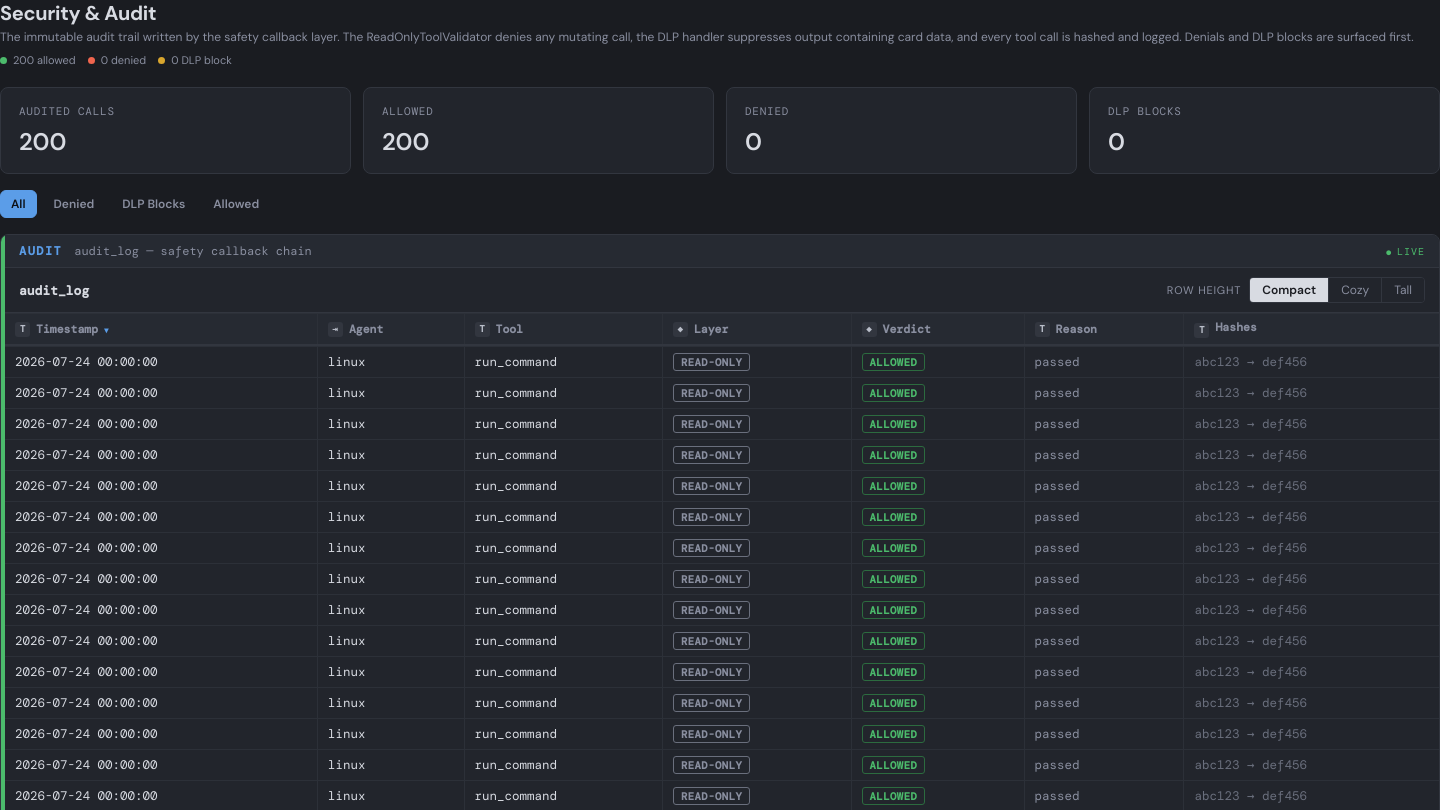
Scenario: Security page — Phase 3 design-system rebuild › shows a filter-zero empty state (not a false 'no data' message) when a filter matches nothing
Expected: the text "Audited Calls" is shown, [19,104,115,118]
Click the button "Denied".
click(74, 204)  # box [42,190,105,218]
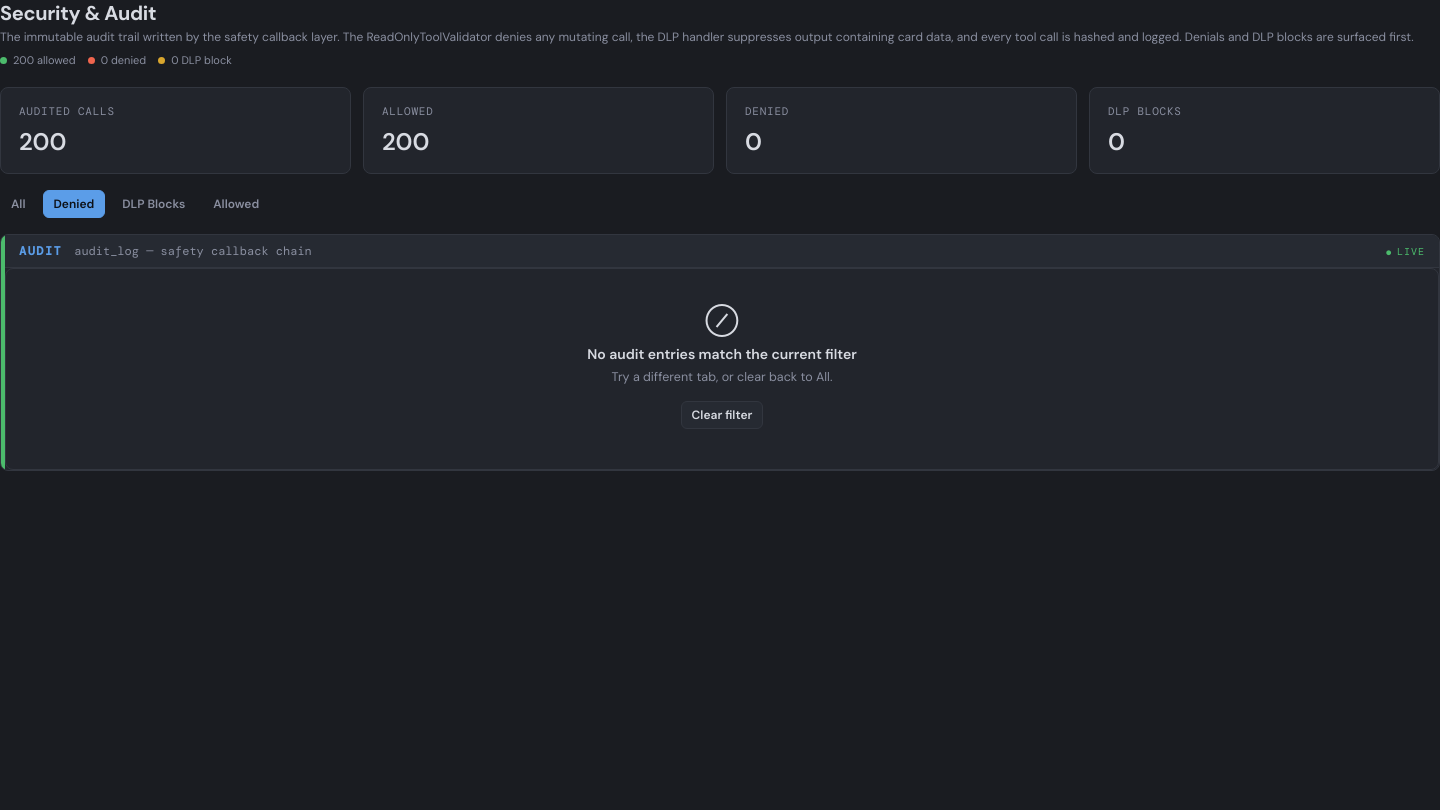
Result: the text "No audit entries match the current filter" is shown at [587,345,857,363]
